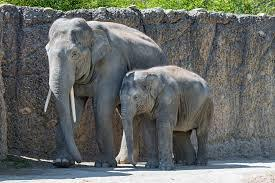elephant: (44, 18, 212, 168)
